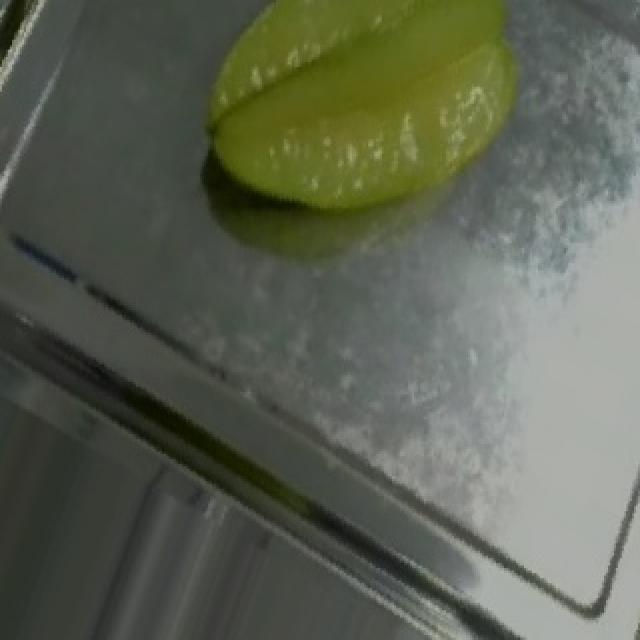fruit: (164, 0, 584, 270)
